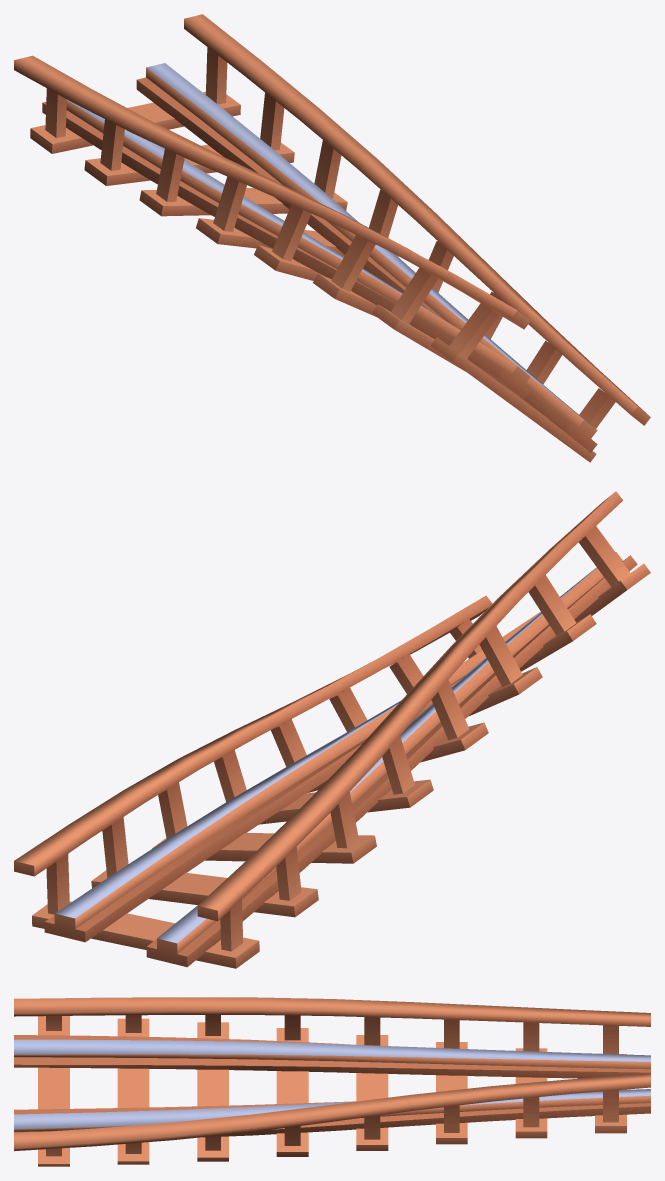
Rendered from coaster-wood-straight-skew-left.glb.
3 renders of one model, top to bottom at view 1: azimuth 30°, elevation 25°; view 2: azimuth 150°, elevation 25°; view 3: azimuth 270°, elevation 25°, orthographic. The views are drawn at different scales.
Parts seen in each view (by area): view 1: coaster-wood-straight-skew-left; view 2: coaster-wood-straight-skew-left; view 3: coaster-wood-straight-skew-left.
Boxes of the visible parts, x1=… form: coaster-wood-straight-skew-left: x1=14, y1=14, x2=650, y2=462; coaster-wood-straight-skew-left: x1=14, y1=491, x2=650, y2=968; coaster-wood-straight-skew-left: x1=14, y1=997, x2=650, y2=1166.
Size of the model in its own units: 3.26 by 2.83 by 12.
Materials: 1 (1 with a texture image).
